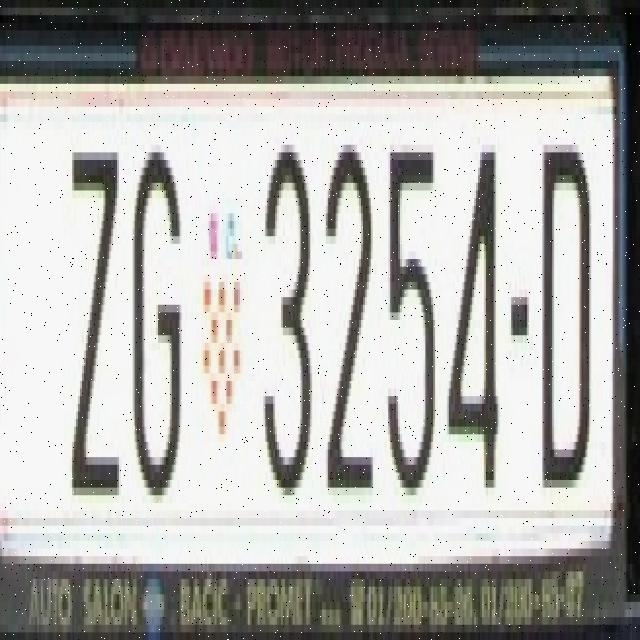2: (322, 133, 375, 499)
3: (260, 133, 312, 499)
4: (447, 122, 503, 495)
5: (384, 133, 437, 499)
D: (538, 126, 592, 499)
G: (130, 137, 184, 495)
Z: (68, 133, 121, 499)
